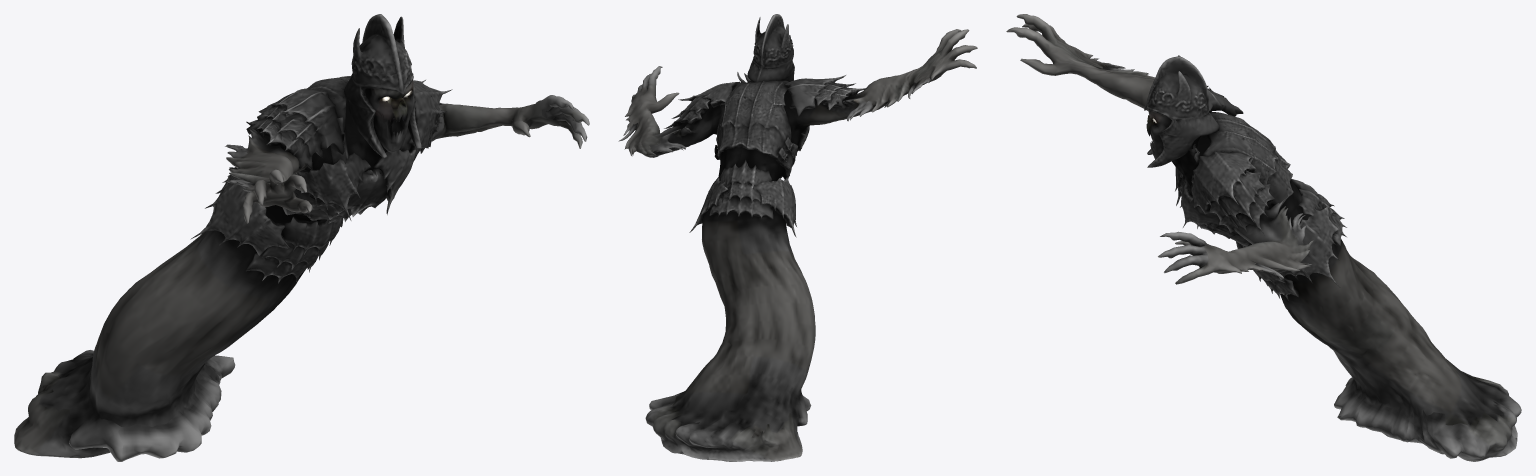
Rendered from MZ4250 - Wraith_3 2025.glb.
3 renders of one model, left to right at view 1: azimuth 30°, elevation 25°; view 2: azimuth 150°, elevation 25°; view 3: azimuth 270°, elevation 25°, orthographic. The views are drawn at different scales.
Parts seen in each view (by area): view 1: Body.002; view 2: Body.002; view 3: Body.002.
Part boxes in pixels (left/top/right/bottom): Body.002: left=14, top=14, right=589, bottom=461; Body.002: left=618, top=14, right=977, bottom=461; Body.002: left=1006, top=14, right=1521, bottom=461.
Size of the model in its own units: 74.15 by 83.89 by 94.68.
2 materials, 2 textured.
